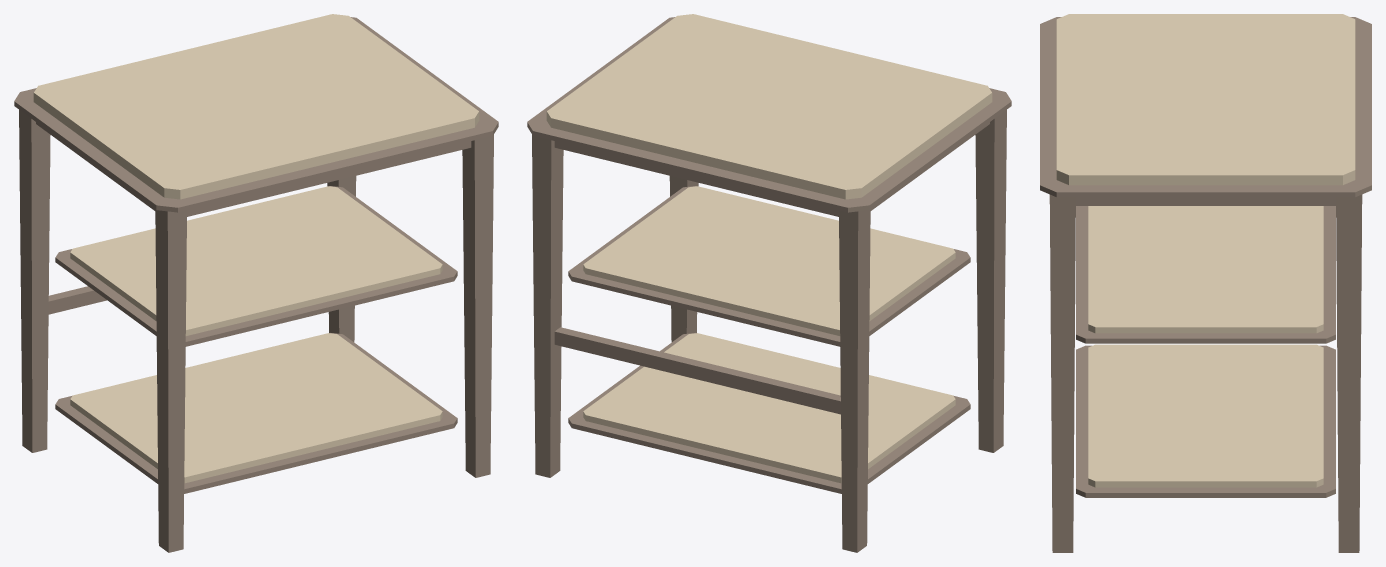
3 views of the same model, side by side, from view 1: azimuth 30°, elevation 25°; view 2: azimuth 150°, elevation 25°; view 3: azimuth 270°, elevation 25° (orthographic). The views are drawn at different scales.
Visible parts, largest first — view 1: P015 Natural-oak top inset, P006 Lower natural-oak inset, P008 Middle natural-oak inset, P001 Tapered leg 11, P003 Tapered leg 21, P002 Tapered leg 12, P014 Smoked-oak top base, P005 Lower smoked-oak tray base, P007 Middle smoked-oak tray base, P010 Front/back apron, P004 Tapered leg 22, P009 Single rear stretcher; view 2: P015 Natural-oak top inset, P008 Middle natural-oak inset, P006 Lower natural-oak inset, P002 Tapered leg 12, P004 Tapered leg 22, P001 Tapered leg 11, P014 Smoked-oak top base, P009 Single rear stretcher, P007 Middle smoked-oak tray base, P005 Lower smoked-oak tray base, P011 Front/back apron, P003 Tapered leg 21; view 3: P015 Natural-oak top inset, P006 Lower natural-oak inset, P008 Middle natural-oak inset, P014 Smoked-oak top base, P003 Tapered leg 21, P004 Tapered leg 22, P005 Lower smoked-oak tray base, P007 Middle smoked-oak tray base, P013 Side apron.
Part boxes in pixels (box(x1,y1,x2,y2)): P015 Natural-oak top inset: box(33, 14, 479, 199); P006 Lower natural-oak inset: box(70, 333, 442, 483); P008 Middle natural-oak inset: box(70, 186, 442, 335); P001 Tapered leg 11: box(155, 209, 186, 552); P003 Tapered leg 21: box(462, 134, 493, 477); P002 Tapered leg 12: box(19, 110, 50, 452); P014 Smoked-oak top base: box(14, 17, 498, 212); P005 Lower smoked-oak tray base: box(55, 333, 457, 493); P007 Middle smoked-oak tray base: box(55, 186, 457, 346); P010 Front/back apron: box(187, 141, 471, 216); P004 Tapered leg 22: box(327, 176, 356, 341); P009 Single rear stretcher: box(48, 286, 106, 314); P015 Natural-oak top inset: box(546, 14, 992, 199); P008 Middle natural-oak inset: box(583, 186, 955, 335); P006 Lower natural-oak inset: box(583, 333, 955, 483); P002 Tapered leg 12: box(839, 209, 870, 552); P004 Tapered leg 22: box(532, 134, 563, 477); P001 Tapered leg 11: box(975, 110, 1006, 452); P014 Smoked-oak top base: box(527, 17, 1011, 212); P009 Single rear stretcher: box(554, 327, 840, 414); P007 Middle smoked-oak tray base: box(568, 186, 970, 346); P005 Lower smoked-oak tray base: box(568, 333, 970, 493); P011 Front/back apron: box(554, 141, 838, 216); P003 Tapered leg 21: box(669, 176, 698, 341); P015 Natural-oak top inset: box(1056, 14, 1355, 185); P006 Lower natural-oak inset: box(1088, 344, 1323, 487); P008 Middle natural-oak inset: box(1088, 206, 1323, 333); P014 Smoked-oak top base: box(1040, 17, 1371, 197); P003 Tapered leg 21: box(1049, 194, 1075, 552); P004 Tapered leg 22: box(1336, 194, 1362, 552); P005 Lower smoked-oak tray base: box(1076, 345, 1335, 497); P007 Middle smoked-oak tray base: box(1076, 206, 1335, 343); P013 Side apron: box(1076, 197, 1335, 205).
Bounding box in the file's own units: 0.6 × 0.6 × 0.48.
